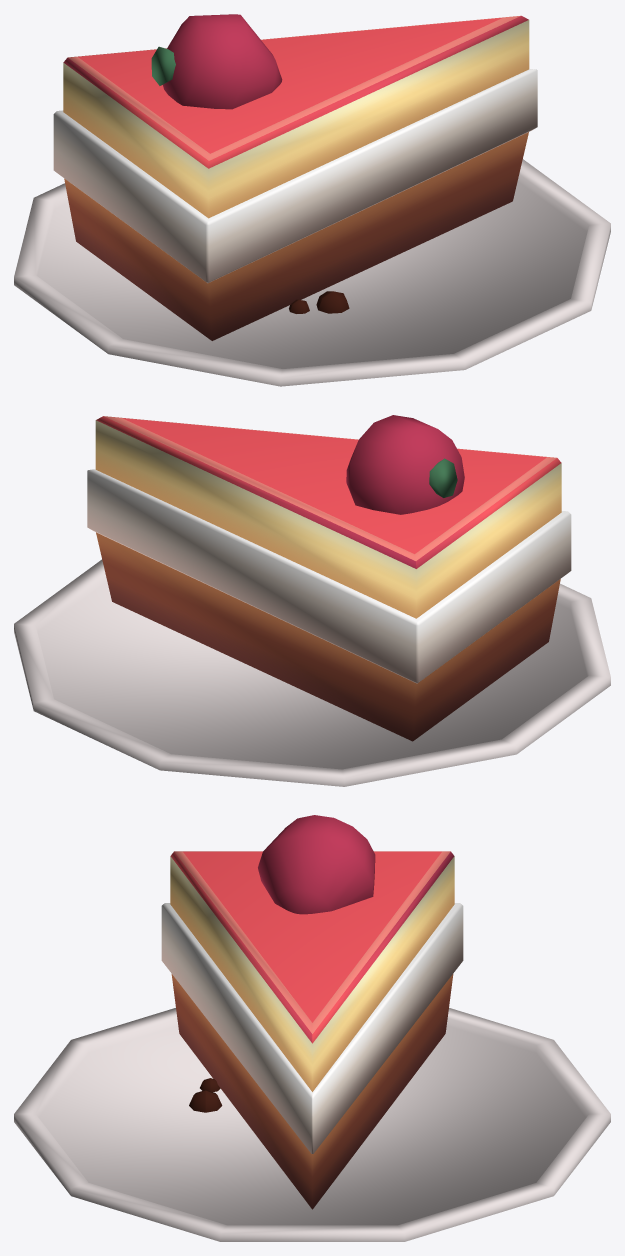
The model's file is StrawberyCakeLowPoly.fbx.
3 renders of one model, top to bottom at view 1: azimuth 30°, elevation 25°; view 2: azimuth 150°, elevation 25°; view 3: azimuth 270°, elevation 25°, orthographic. The views are drawn at different scales.
Parts seen in each view (by area): view 1: Cube.001, Circle, Cylinder, Cone.001, Roundcube.001; view 2: Cube.001, Circle, Cylinder, Cone.001; view 3: Circle, Cube.001, Cylinder, Roundcube.001.
Boxes of the visible parts, <box> form: Cube.001: <box>53,15,537,340</box>; Circle: <box>14,159,610,386</box>; Cylinder: <box>163,14,282,109</box>; Cone.001: <box>151,46,175,85</box>; Roundcube.001: <box>316,291,349,313</box>; Cube.001: <box>87,416,571,741</box>; Circle: <box>14,559,610,786</box>; Cylinder: <box>346,415,464,514</box>; Cone.001: <box>429,458,457,497</box>; Circle: <box>14,1008,610,1241</box>; Cube.001: <box>161,851,463,1209</box>; Cylinder: <box>258,815,375,914</box>; Roundcube.001: <box>189,1090,222,1112</box>.
Size of the model in its own units: 565 by 280 by 595.
Materials: 6 (1 with a texture image).
